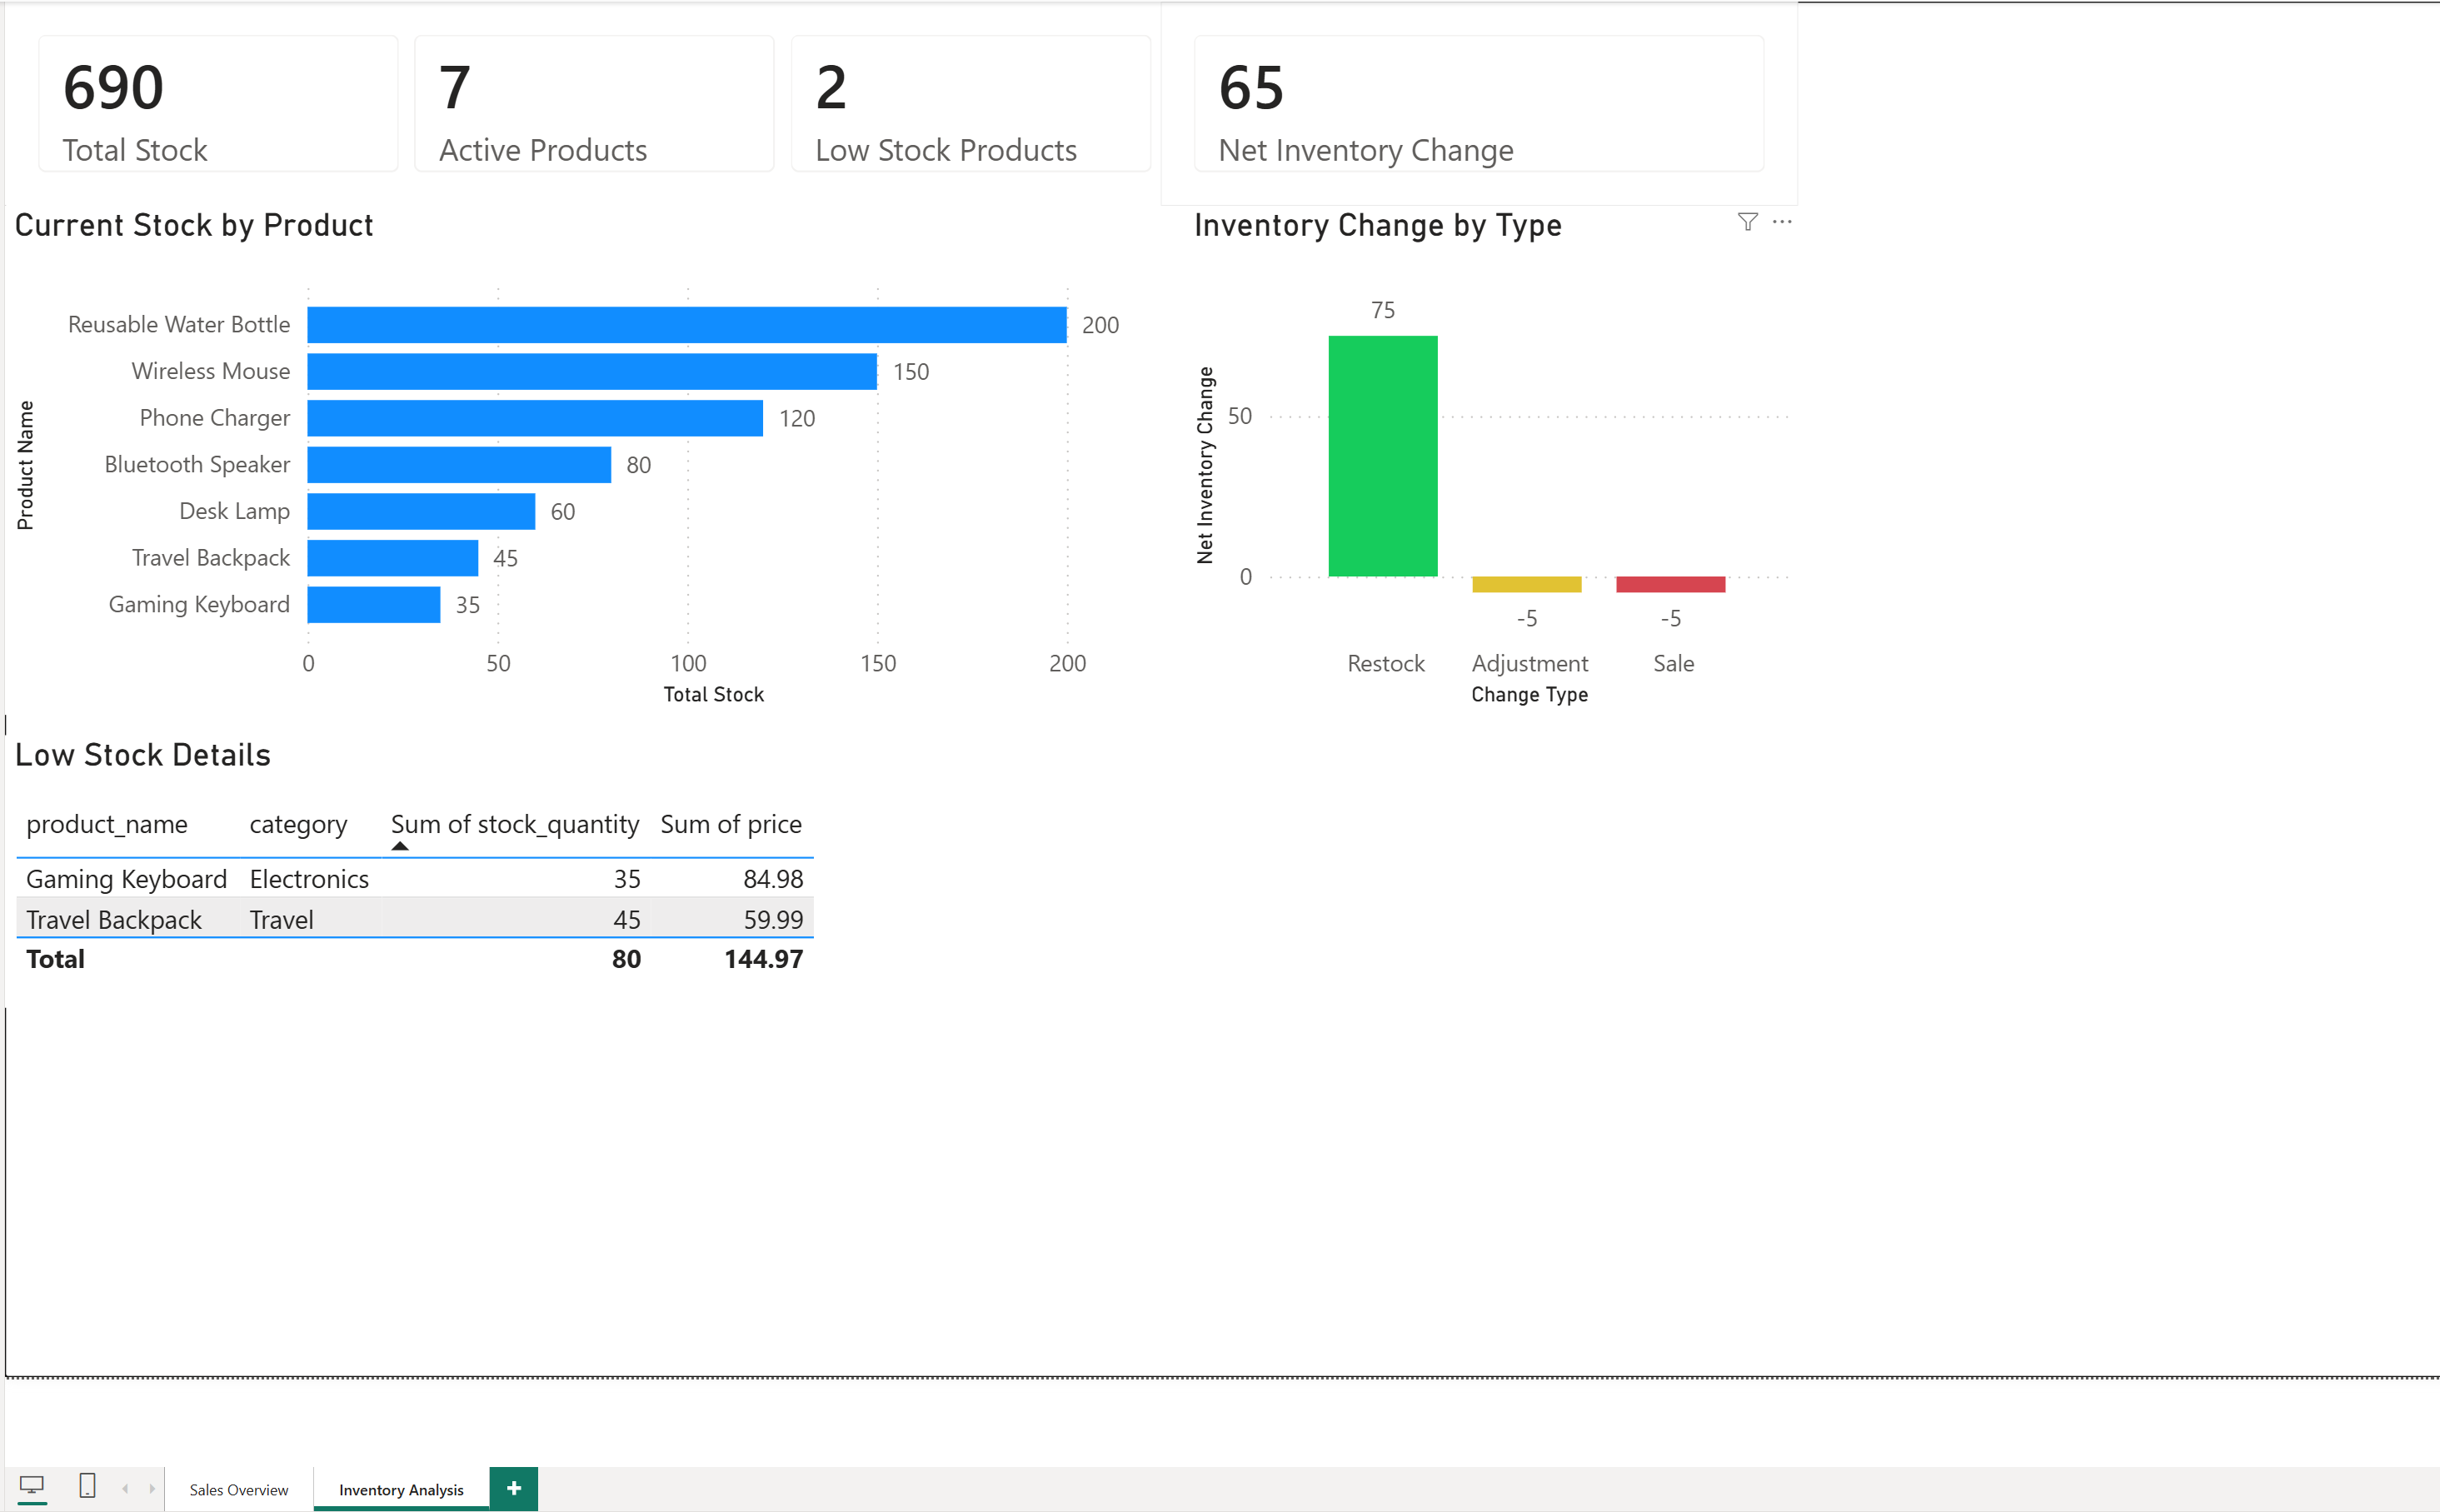

Layout of this report page (visuals, bound fields, positions):
{"tool":"powerbi","page":{"name":"Inventory Analysis","canvas":[1280,720],"ordinal":1},"visuals":[{"type":"cardVisual","fields":{"Data":["products.Total Stock","products.Active Products","products.Low Stock Products"]},"box":[0,0,617.3,106.6],"z":0},{"type":"clusteredBarChart","title":"Current Stock by Product","fields":{"Category":["products.product_name"],"Y":["products.Total Stock"]},"box":[0,106.6,598.4,266.8],"z":1},{"type":"cardVisual","fields":{"Data":["inventory_logs.Net Inventory Change"]},"box":[604.9,0,333.5,106.6],"z":2},{"type":"clusteredColumnChart","title":"Inventory Change by Type","fields":{"Category":["inventory_logs.change_type"],"Y":["inventory_logs.Net Inventory Change"]},"box":[617.3,106.6,321.1,266.8],"z":3},{"type":"tableEx","title":"Low Stock Details","fields":{"Values":["products.product_name","products.category","Sum(products.stock_quantity)","Sum(products.price)"]},"box":[0,383.9,938.4,142.6],"z":4}]}

Visuals, with their boxes on the page's 1280x720 design canvas (x1, y1, x2, y2). These are canvas units, not pixel positions in the 2440x1512 screenshot, which may show the page scaled, cropped or inside an application window:
cardVisual - products.Total Stock x products.Active Products: pyautogui.locateOnScreen(0, 0, 617, 107)
"Current Stock by Product" clusteredBarChart: pyautogui.locateOnScreen(0, 107, 598, 373)
cardVisual - inventory_logs.Net Inventory Change: pyautogui.locateOnScreen(605, 0, 938, 107)
"Inventory Change by Type" clusteredColumnChart: pyautogui.locateOnScreen(617, 107, 938, 373)
"Low Stock Details" tableEx: pyautogui.locateOnScreen(0, 384, 938, 526)
